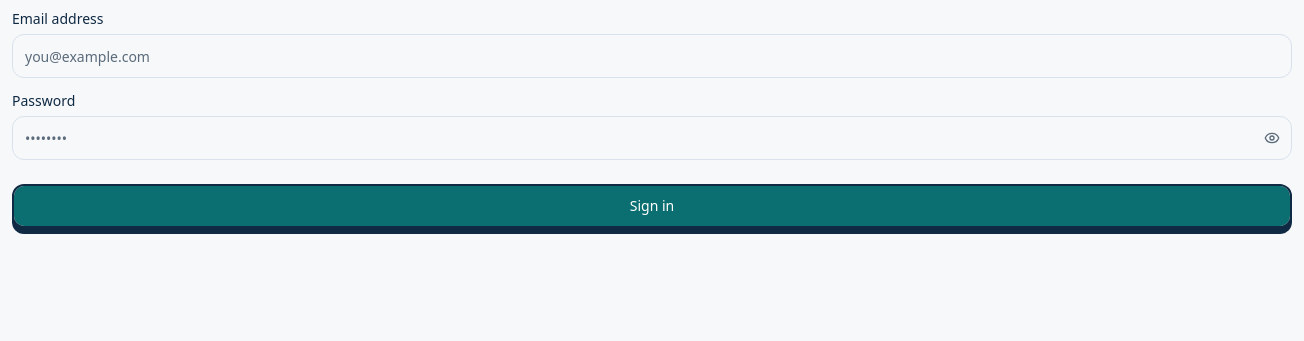
Test: LoginForm › shows a disabled-account message and support link when login returns ACCOUNT_DISABLED
Type "ahmed@example.com" into the field labelled "Email address" at (652, 56), box x1=12 y1=34 x2=1292 y2=78
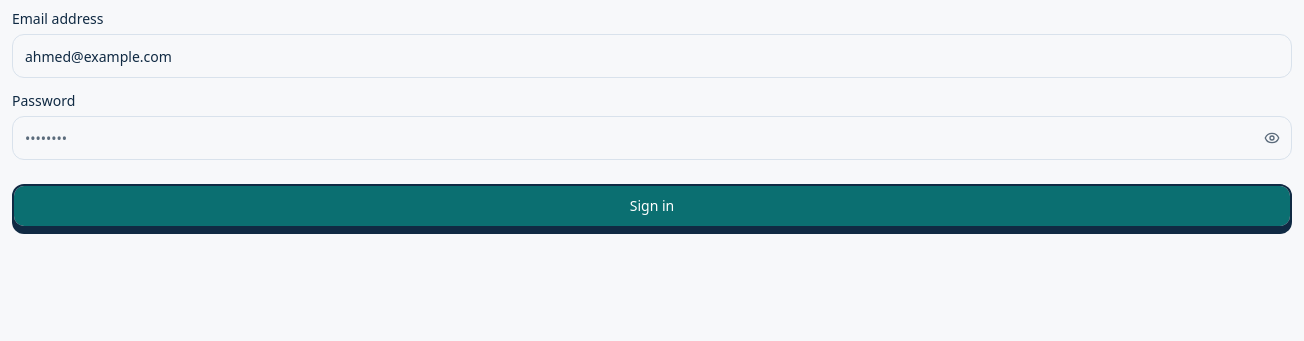
Type "password123" into the password field labelled "Password" at (652, 138), box x1=12 y1=116 x2=1292 y2=160
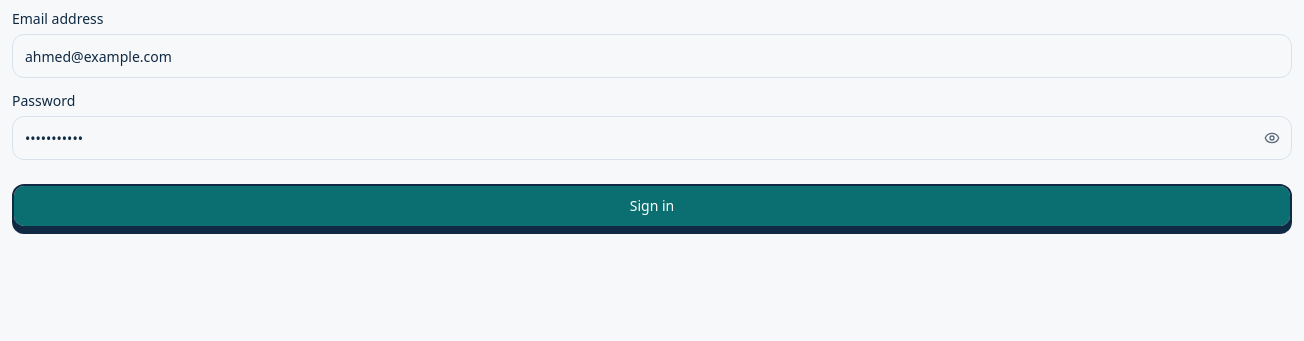
Click the button "Sign in" at (652, 206), box x1=12 y1=184 x2=1292 y2=228
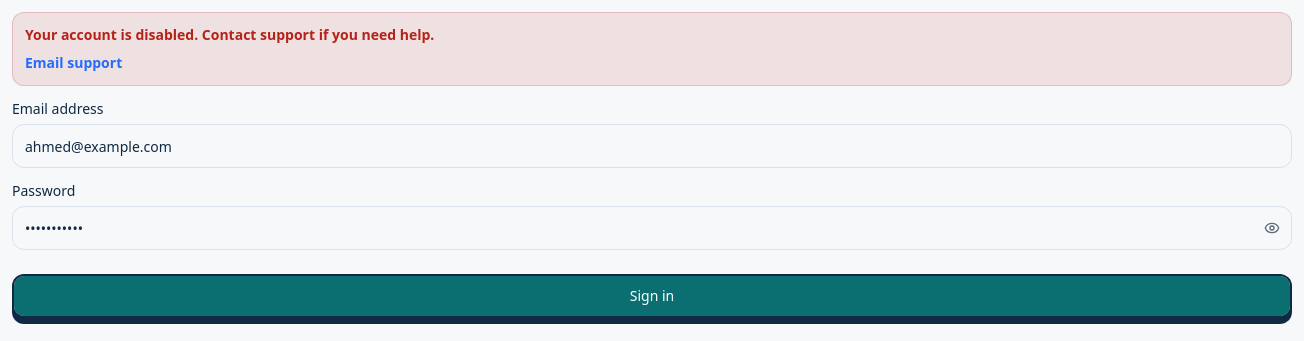
expect the text "Your account is disabled. Contact support if you need help." is shown: met, box x1=25 y1=25 x2=434 y2=44
